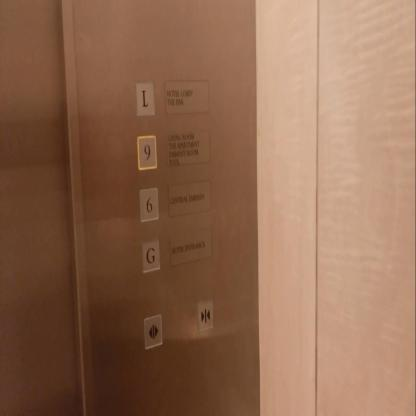6: (138, 186, 160, 224)
9: (136, 133, 158, 171)
G: (140, 237, 160, 274)
L: (135, 78, 155, 117)
close: (197, 298, 214, 331)
open: (142, 312, 162, 352)
